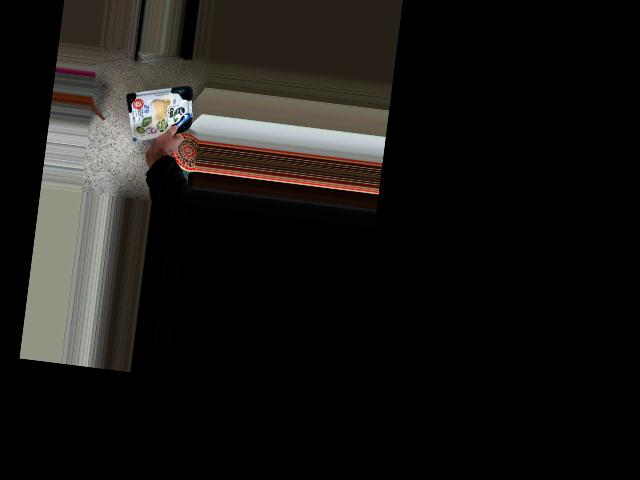cheese: (124, 78, 197, 148)
